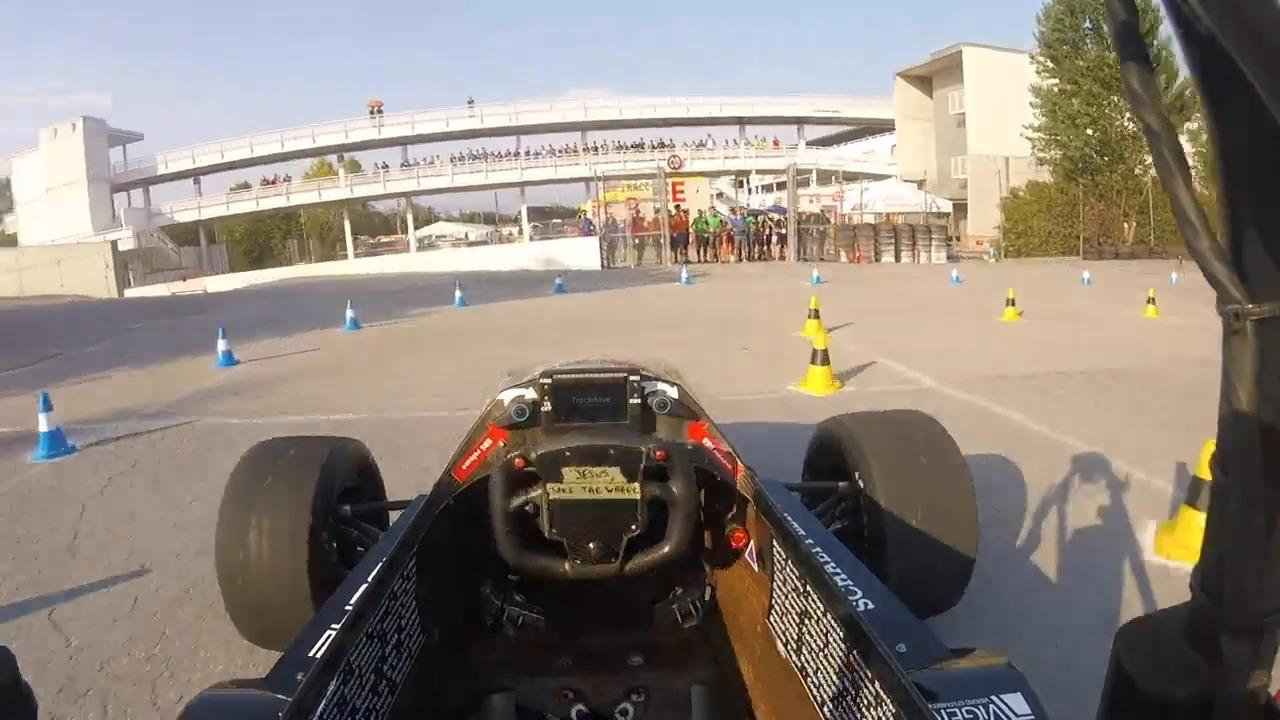blue_cone: (29, 388, 78, 461), (215, 326, 241, 369), (339, 299, 361, 335), (453, 283, 470, 310), (552, 273, 568, 295), (678, 265, 694, 287), (810, 264, 824, 286), (948, 264, 960, 286), (1081, 267, 1093, 287)
yellow_cone: (1156, 434, 1239, 567), (798, 326, 844, 397), (796, 294, 834, 343), (997, 288, 1023, 323), (1140, 289, 1162, 320)
